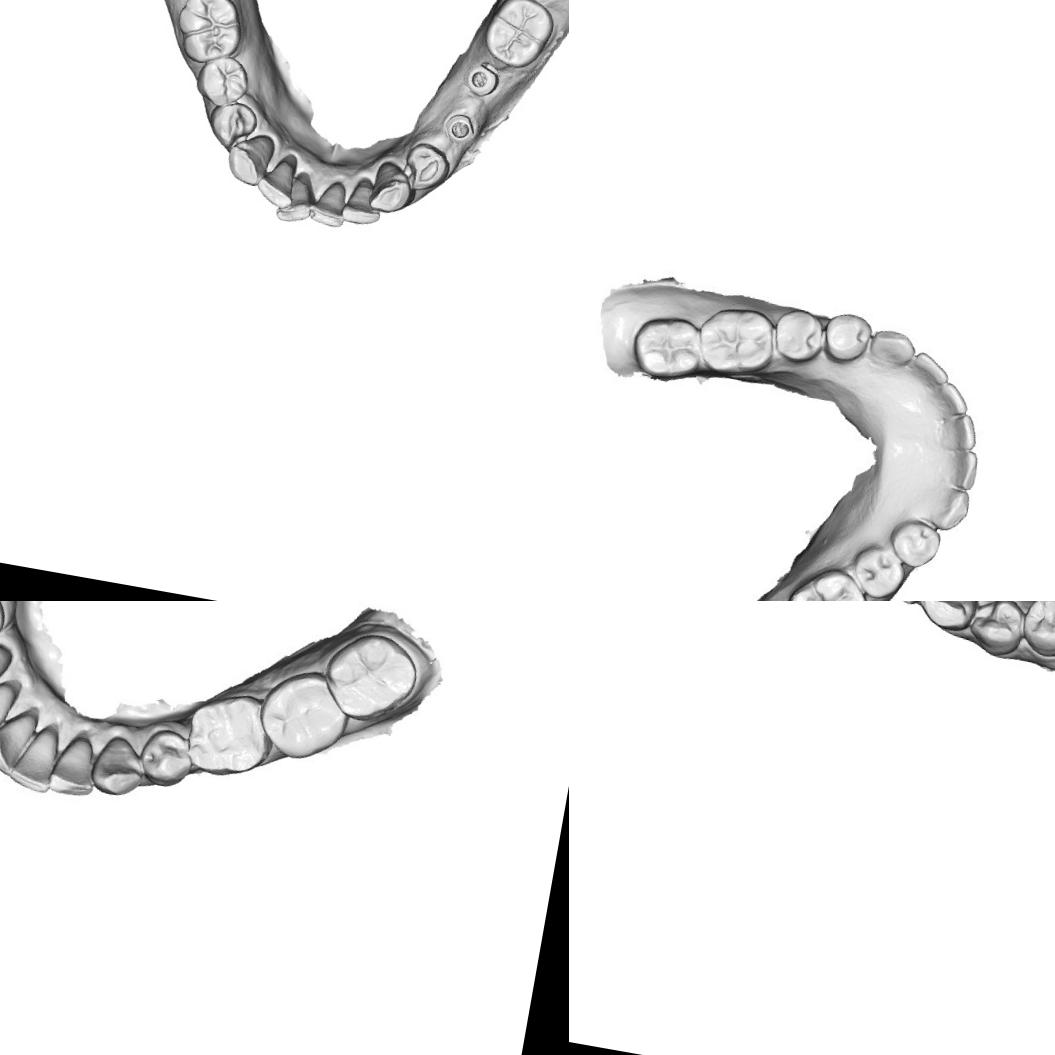canine: (86, 731, 150, 801), (222, 126, 277, 190), (364, 156, 416, 218), (864, 324, 918, 374), (914, 601, 980, 634), (926, 482, 970, 530)
implant: (460, 60, 502, 100), (438, 109, 480, 148)
incisor: (2, 717, 62, 794), (46, 721, 104, 799), (302, 173, 354, 230), (251, 153, 300, 211), (274, 170, 321, 228), (337, 175, 386, 229), (0, 703, 38, 771), (928, 410, 981, 456), (932, 446, 980, 492), (904, 346, 949, 390), (933, 379, 970, 426), (0, 676, 16, 744)
molar: (321, 638, 423, 718), (258, 670, 351, 754), (181, 691, 270, 776), (697, 301, 778, 382), (477, 0, 558, 74), (168, 0, 249, 69), (636, 314, 703, 377), (783, 563, 863, 601)
premolar: (818, 305, 882, 370), (962, 601, 1029, 661), (191, 50, 254, 112), (202, 96, 262, 152), (848, 540, 902, 601), (400, 138, 455, 196), (770, 310, 825, 366), (138, 726, 191, 784), (888, 514, 944, 568), (1017, 601, 1055, 662)
